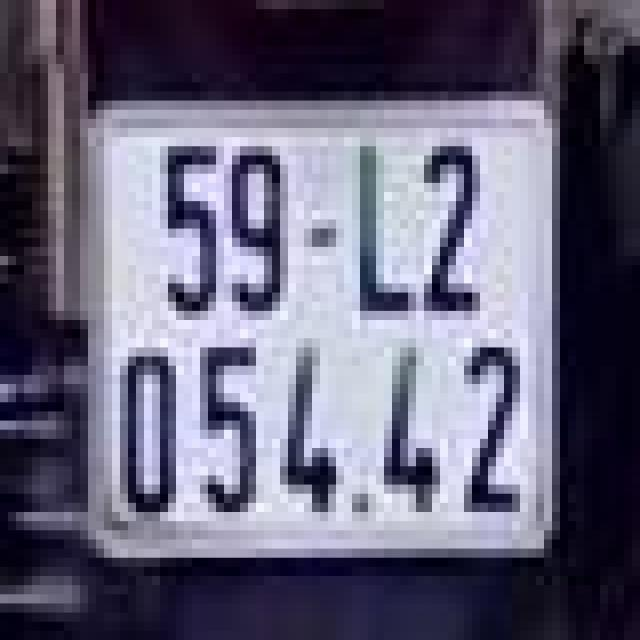0: (112, 343, 184, 535)
2: (416, 142, 496, 324), (460, 334, 532, 526)
4: (376, 343, 456, 526), (276, 334, 348, 516)
5: (188, 334, 268, 535), (148, 133, 228, 324)
9: (228, 133, 292, 324)
L: (344, 128, 416, 320)
